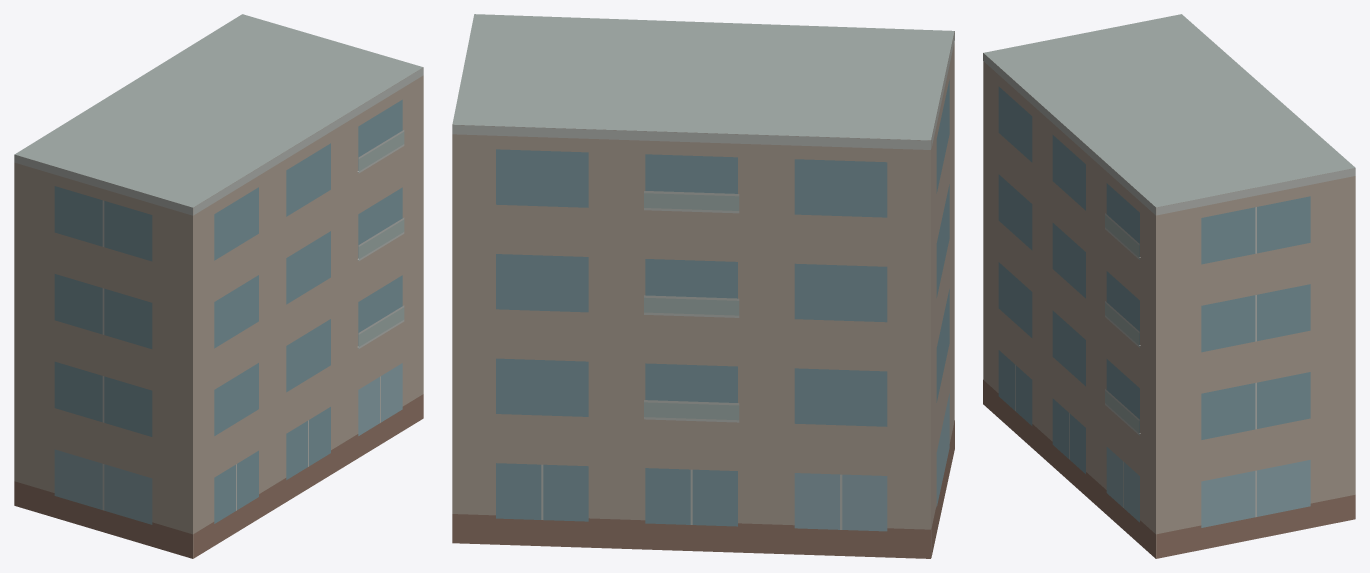
The model's file is survey-upis-32869634.glb.
The picture shows the model from 3 angles, left to right: view 1: azimuth 30°, elevation 25°; view 2: azimuth 150°, elevation 25°; view 3: azimuth 270°, elevation 25°; orthographic projection. The views are drawn at different scales.
Parts seen in each view (by area): view 1: survey-upis-32869634.tmp; view 2: survey-upis-32869634.tmp; view 3: survey-upis-32869634.tmp.
Boxes of the visible parts, box(x1,y1,x2,y2) form: survey-upis-32869634.tmp: box(14, 14, 423, 558); survey-upis-32869634.tmp: box(452, 14, 954, 558); survey-upis-32869634.tmp: box(983, 14, 1355, 558).
Bounding box in the file's own units: 12.53 × 10.6 × 10.19.
